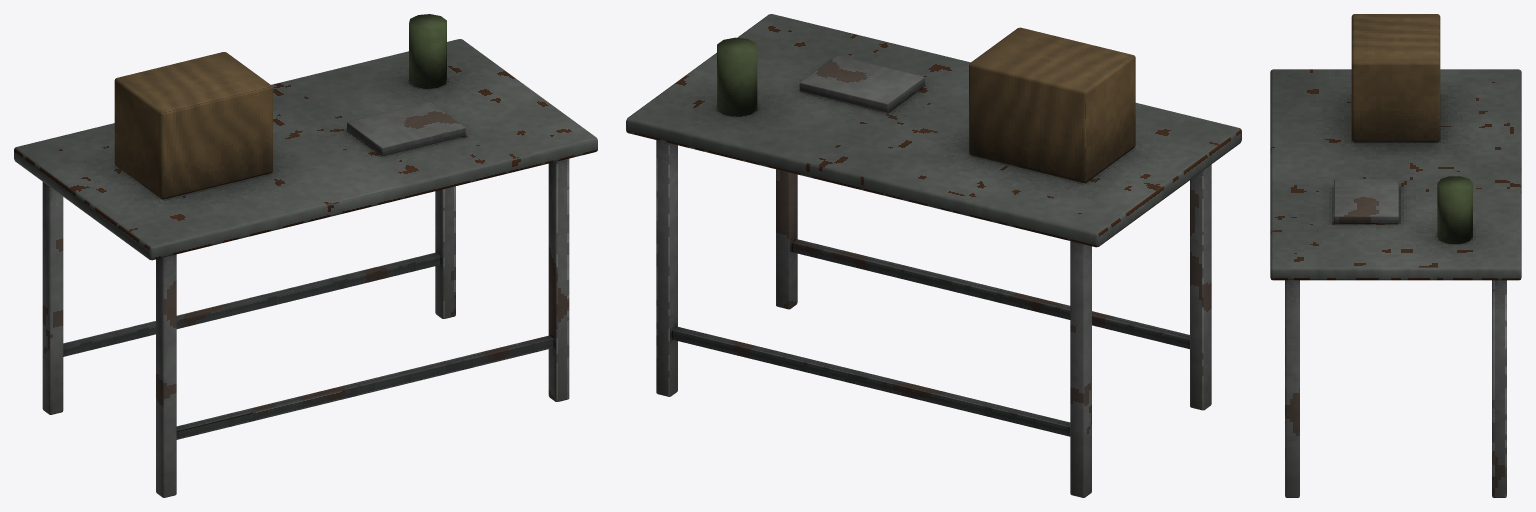
Rendered from table.glb.
3 renders of one model, left to right at view 1: azimuth 30°, elevation 25°; view 2: azimuth 150°, elevation 25°; view 3: azimuth 270°, elevation 25°, orthographic. The views are drawn at different scales.
Visible parts, largest first — view 1: table; view 2: table; view 3: table.
Boxes of the visible parts, x1,y1,x2,y2 form: table: (14,14,597,497); table: (626,14,1241,497); table: (1270,14,1521,497).
Bounding box in the file's own units: 1.6 × 1.19 × 0.85.
1 material, 1 textured.
